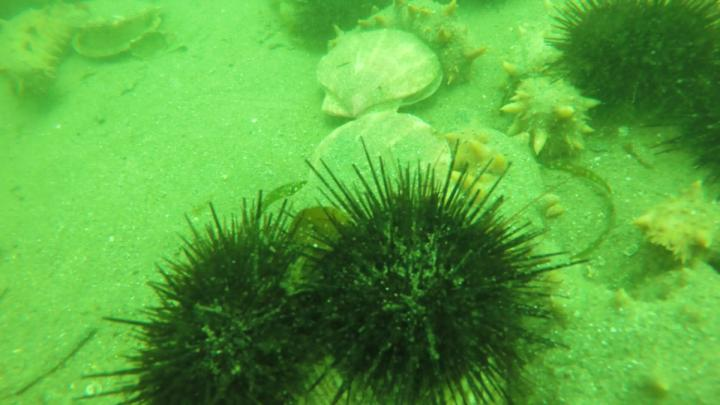echinus: (294, 148, 585, 405), (105, 187, 329, 405), (551, 1, 720, 136), (654, 28, 720, 178), (294, 1, 393, 47)
holothurian: (448, 124, 720, 405), (498, 18, 602, 160), (357, 1, 486, 86), (1, 1, 89, 95), (636, 179, 720, 271)
scallop: (313, 29, 444, 120), (308, 112, 455, 193), (73, 7, 164, 63)
